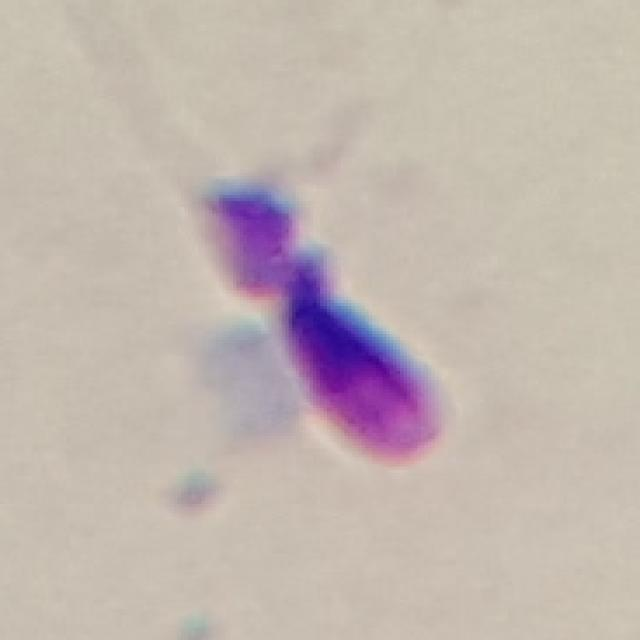abnormal sperm: (148, 118, 452, 466)
